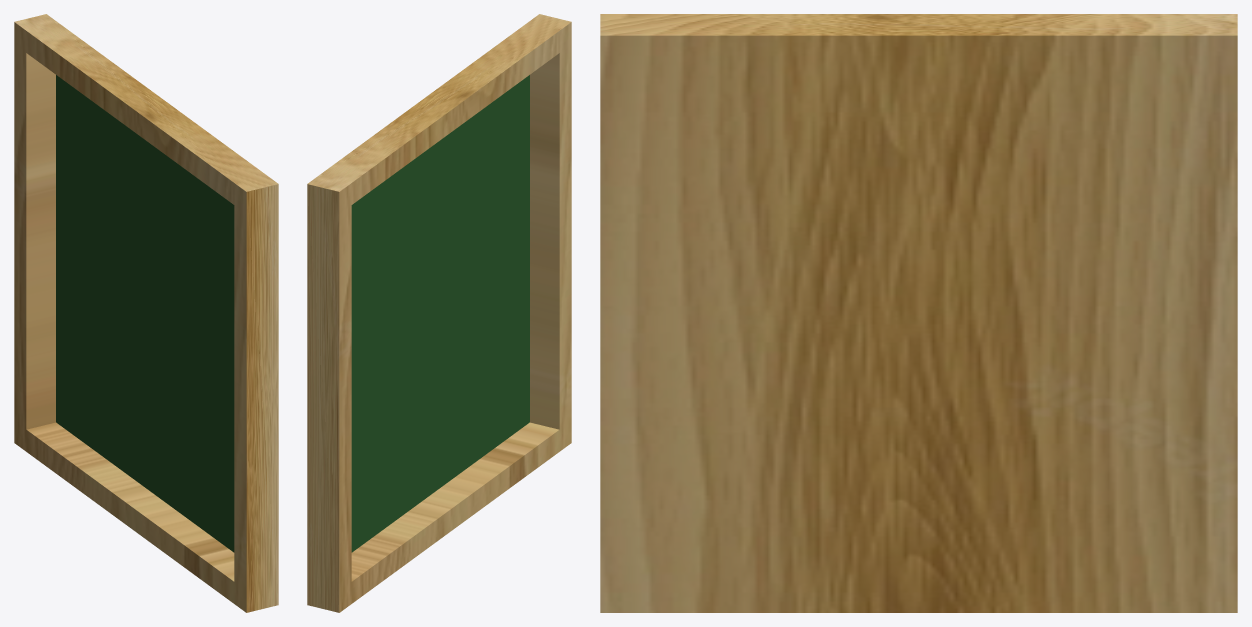
The model's file is Canvas.fbx.
The picture shows the model from 3 angles, left to right: view 1: azimuth 30°, elevation 25°; view 2: azimuth 150°, elevation 25°; view 3: azimuth 270°, elevation 25°; orthographic projection. The views are drawn at different scales.
Visible parts, largest first — view 1: Cube; view 2: Cube; view 3: Cube.
Boxes of the visible parts, <box> form: Cube: <box>14,14,278,612</box>; Cube: <box>307,14,571,612</box>; Cube: <box>600,14,1237,612</box>.
Bounding box in the file's own units: 16.05 × 200 × 200.
